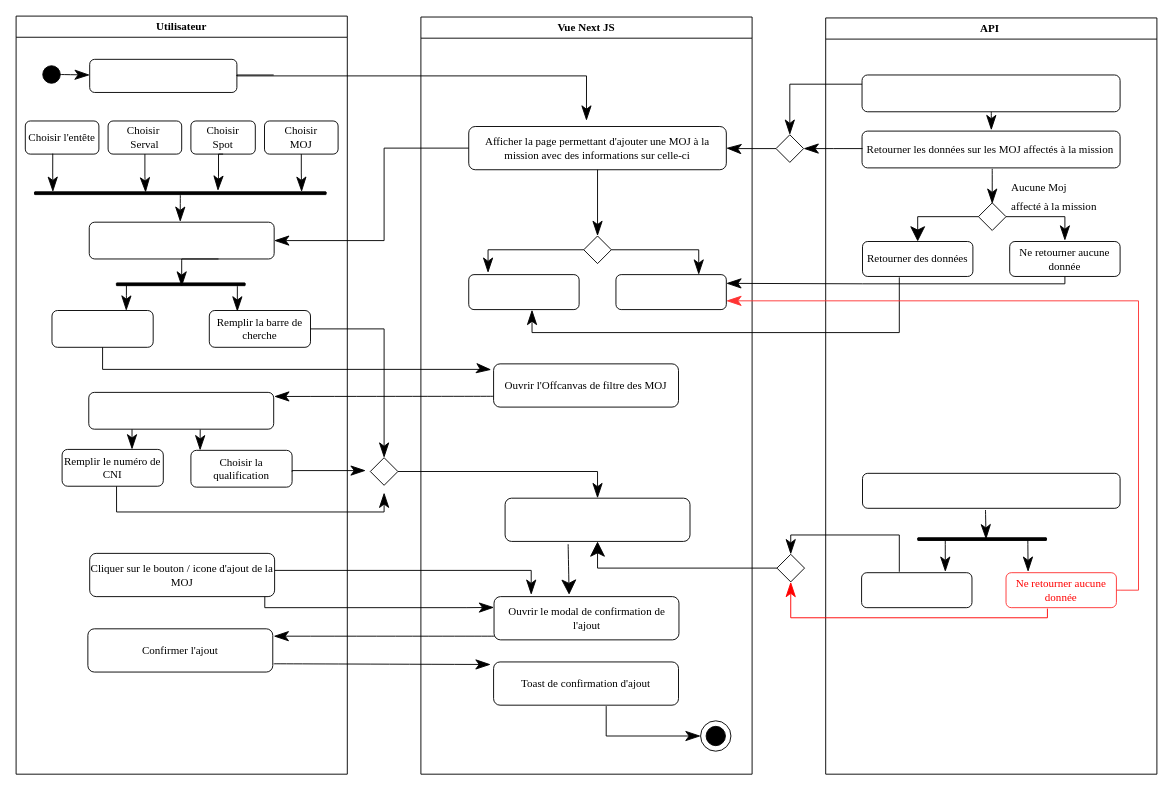
The diagram is 1173 pixels wide and 790 high, and some of its shapes have lost their labels. Here are the shapes that lost their labels. From the top down, the centre of each, then its label:
the point at 163,75: Choisir la Mission à laquelle doit être affectée les MOJ
the point at 990,93: Retourner les données sur la mission choisie
the point at 181,240: Rechercher MOJ
the point at 523,292: Afficher un tableau avec des MOJ
the point at 670,292: Afficher un tableau vide
the point at 102,328: Cliquer sur l'option de filtre
the point at 181,410: Remplir les informations permettant de trouver une MOJ
the point at 991,490: Retourne les données des MOJ trouvés en fonction des données reçus
the point at 597,519: Afficher le resultat du filtre
the point at 916,590: Retourner les données trouvées
